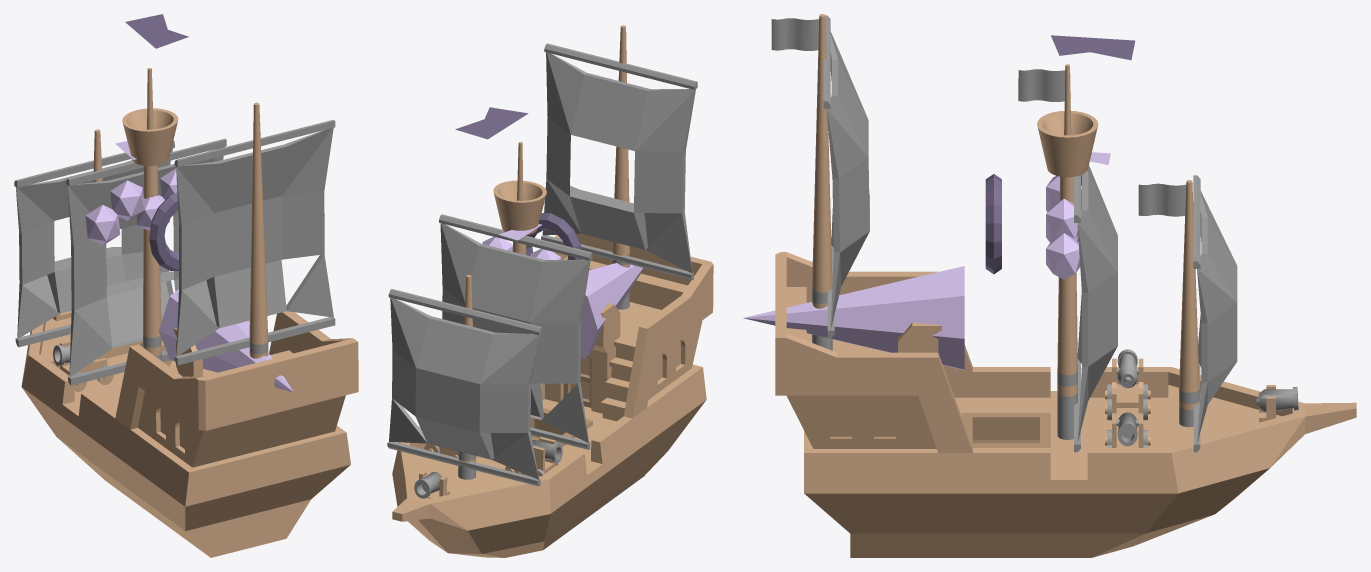
Rendered from ile_11_spectre_des_souvenirs_anime.glb.
3 views of the same model, side by side, from view 1: azimuth 30°, elevation 25°; view 2: azimuth 150°, elevation 25°; view 3: azimuth 270°, elevation 25° (orthographic). The views are drawn at different scales.
Visible parts, largest first — view 1: navire_pirate_sombre_assimp, Eperon_Spectral, Halo_Souvenir, Grand_Pavillon, Fragment_Souvenir_0, Fragment_Souvenir_1, Fragment_Souvenir_2; view 2: navire_pirate_sombre_assimp, Eperon_Spectral, Grand_Pavillon, Halo_Souvenir; view 3: navire_pirate_sombre_assimp, Eperon_Spectral, Halo_Souvenir, Grand_Pavillon, Fragment_Souvenir_4, Fragment_Souvenir_3.
Part boxes in pixels (x1,y1,x2,y2): navire_pirate_sombre_assimp: (14,68,358,557); Eperon_Spectral: (159,289,293,392); Halo_Souvenir: (149,193,178,271); Grand_Pavillon: (125,14,188,48); Fragment_Souvenir_0: (85,205,120,245); Fragment_Souvenir_1: (110,180,144,220); Fragment_Souvenir_2: (136,195,169,230); navire_pirate_sombre_assimp: (387,25,713,557); Eperon_Spectral: (580,263,642,359); Grand_Pavillon: (455,107,528,139); Halo_Souvenir: (526,213,582,259); navire_pirate_sombre_assimp: (771,14,1356,557); Eperon_Spectral: (743,266,964,370); Halo_Souvenir: (985,174,1001,274); Grand_Pavillon: (1051,35,1135,60); Fragment_Souvenir_4: (1046,233,1080,279); Fragment_Souvenir_3: (1046,198,1078,238).
Size of the model in its own units: 28.5 by 74.69 by 79.93.
